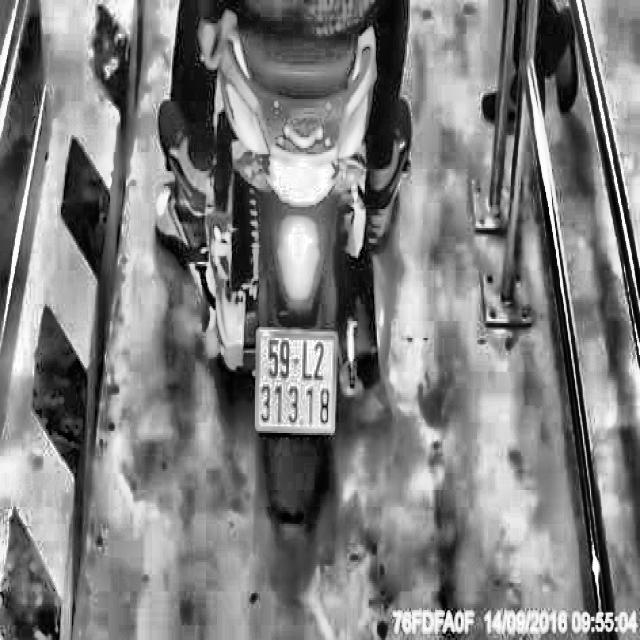plate: (253, 321, 339, 442)
